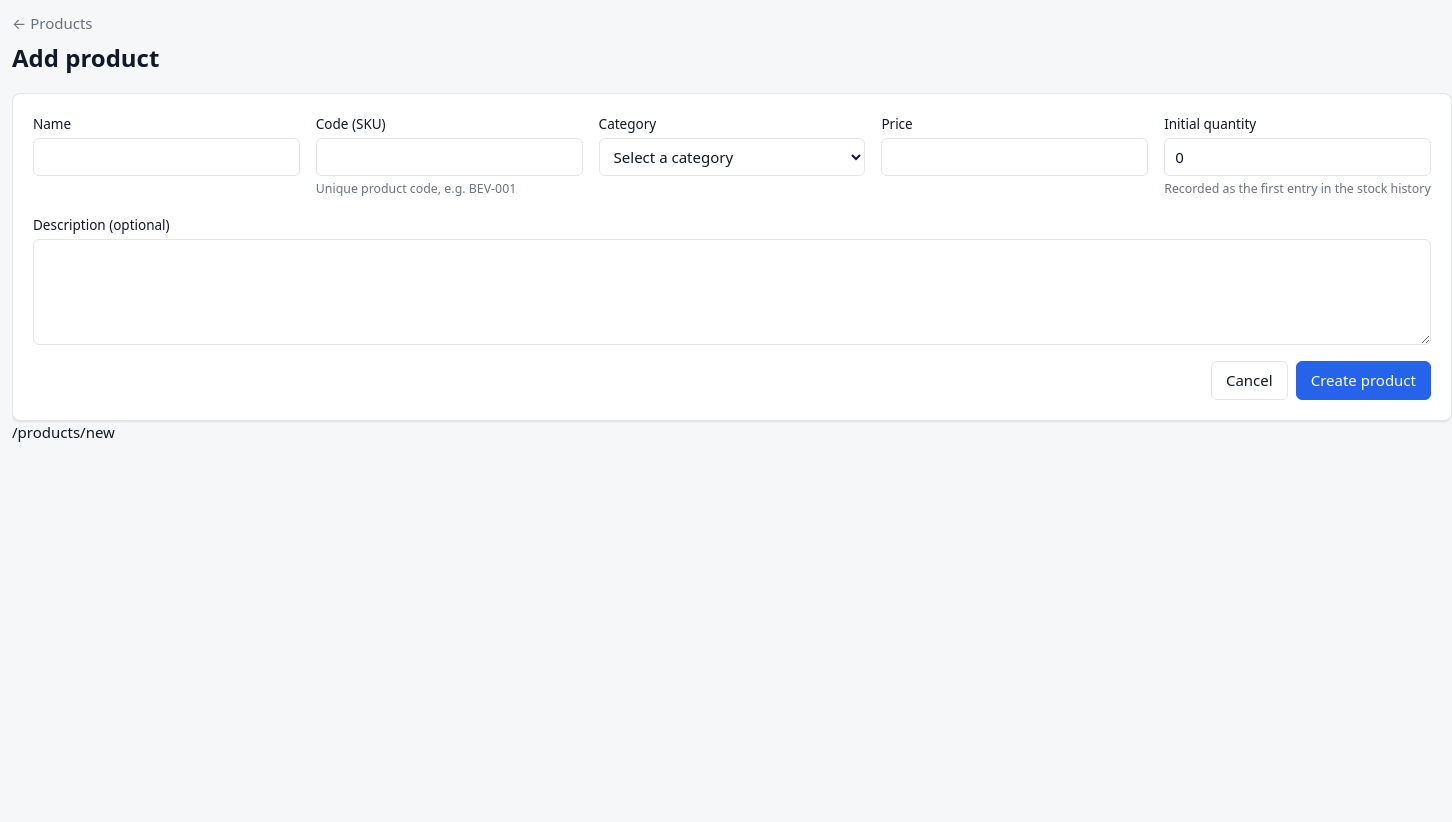
Test: ProductFormPage › creates a product and opens it
This screenshot has width=1452, height=822.
Expected: the heading "Add product" is shown, [12,42,159,72]
Type "Lemonade" into the field labelled "Name".
click(166, 157); type("Lemonade")  # box [33,138,300,176]
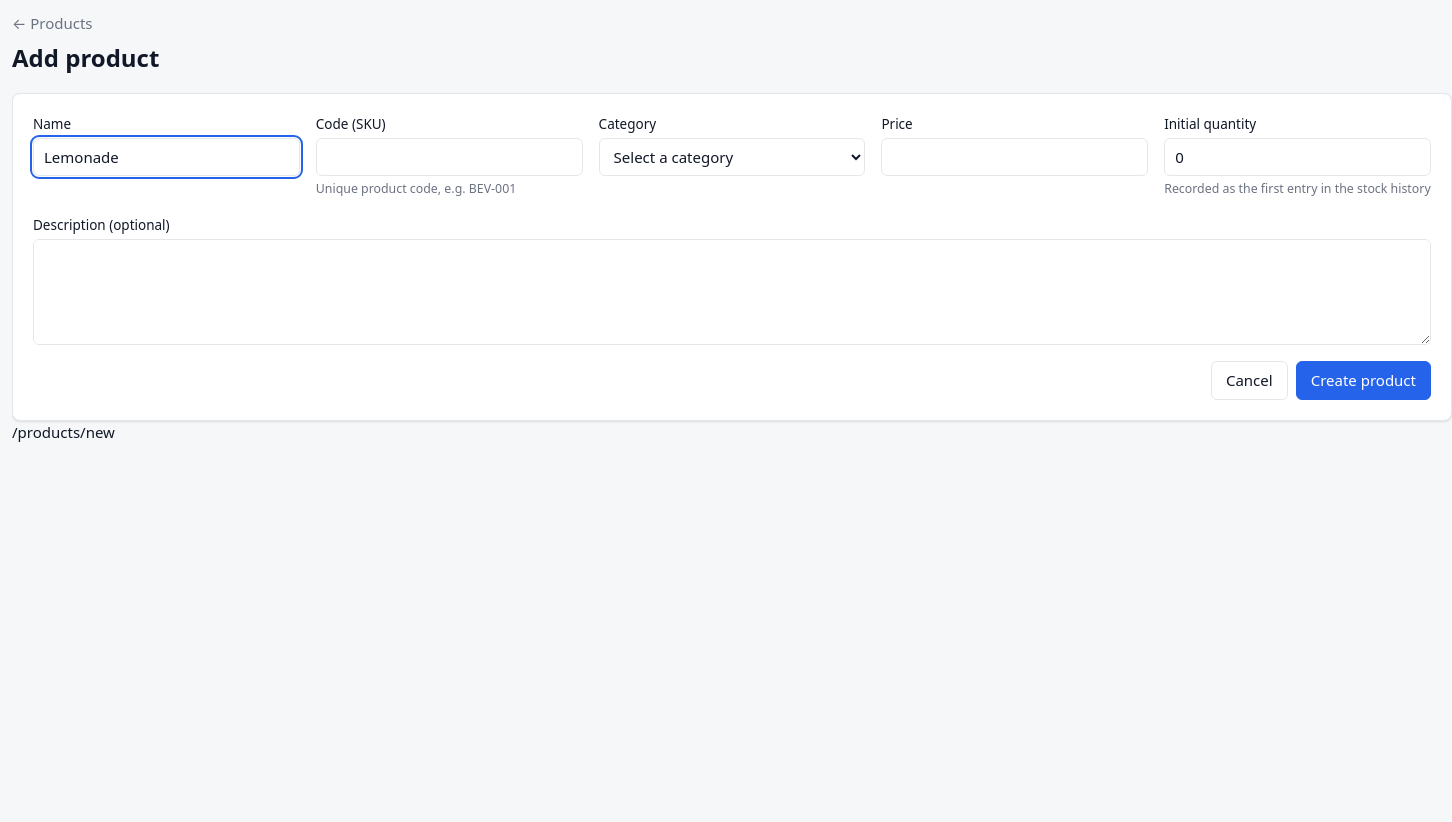
Type "BEV-100" into the field labelled "Code (SKU)".
click(449, 157); type("BEV-100")  # box [316,138,583,176]
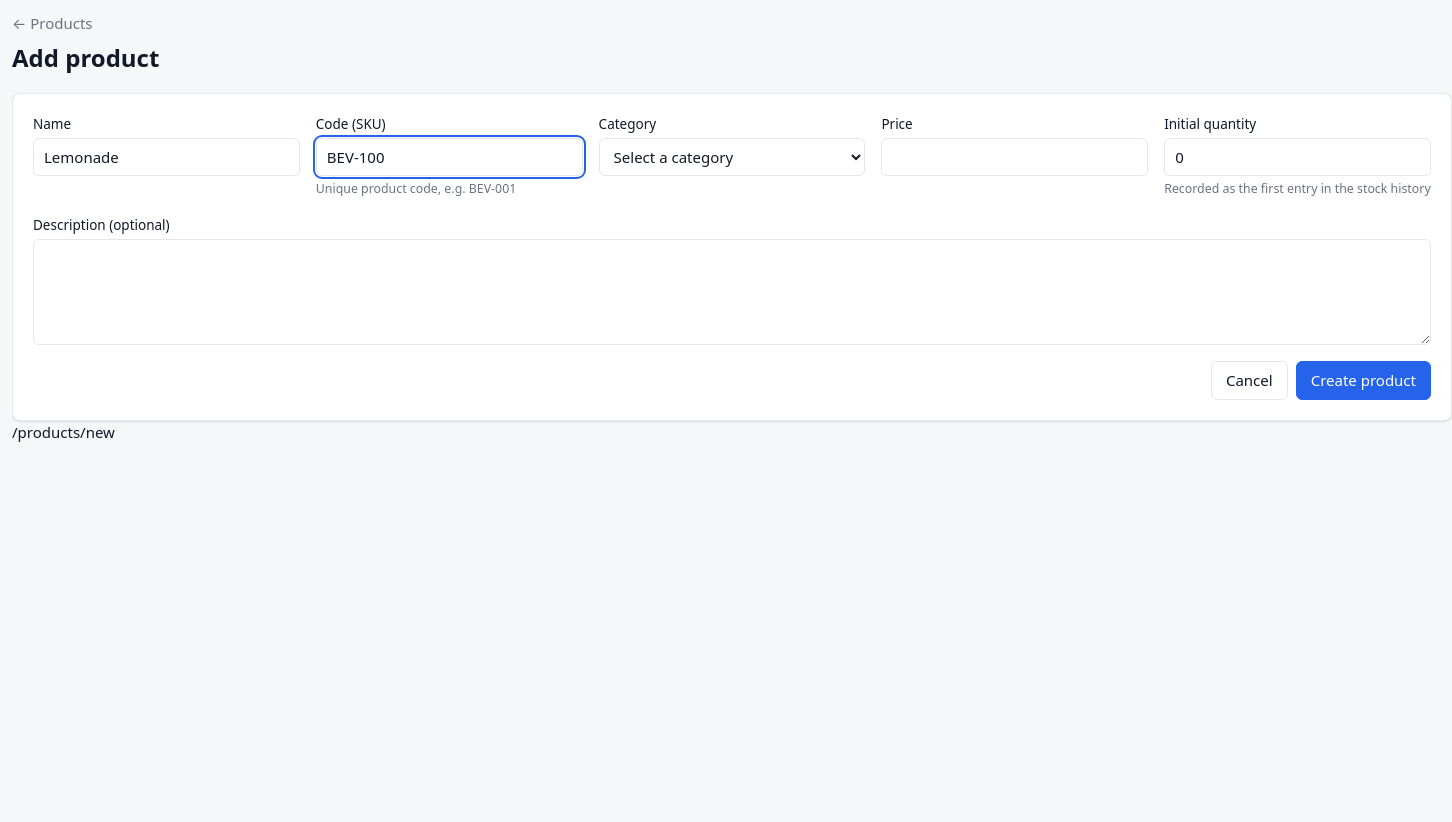
Select "Beverages" in the dropdown labelled "Category" at (732, 157), box [599,138,865,176]
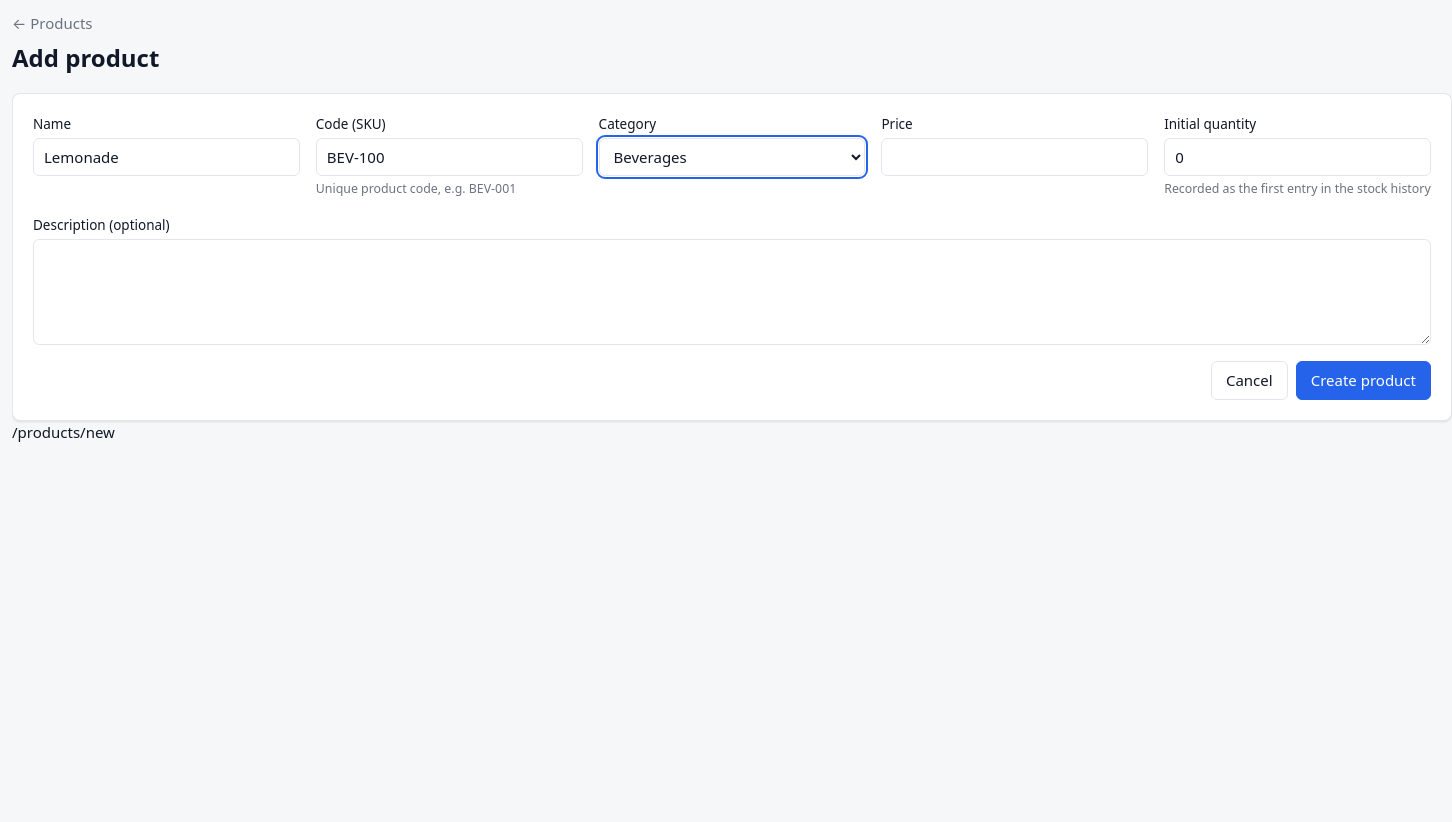
Type "1.5" into the number field labelled "Price".
click(1015, 157); type("1.5")  # box [881,138,1148,176]
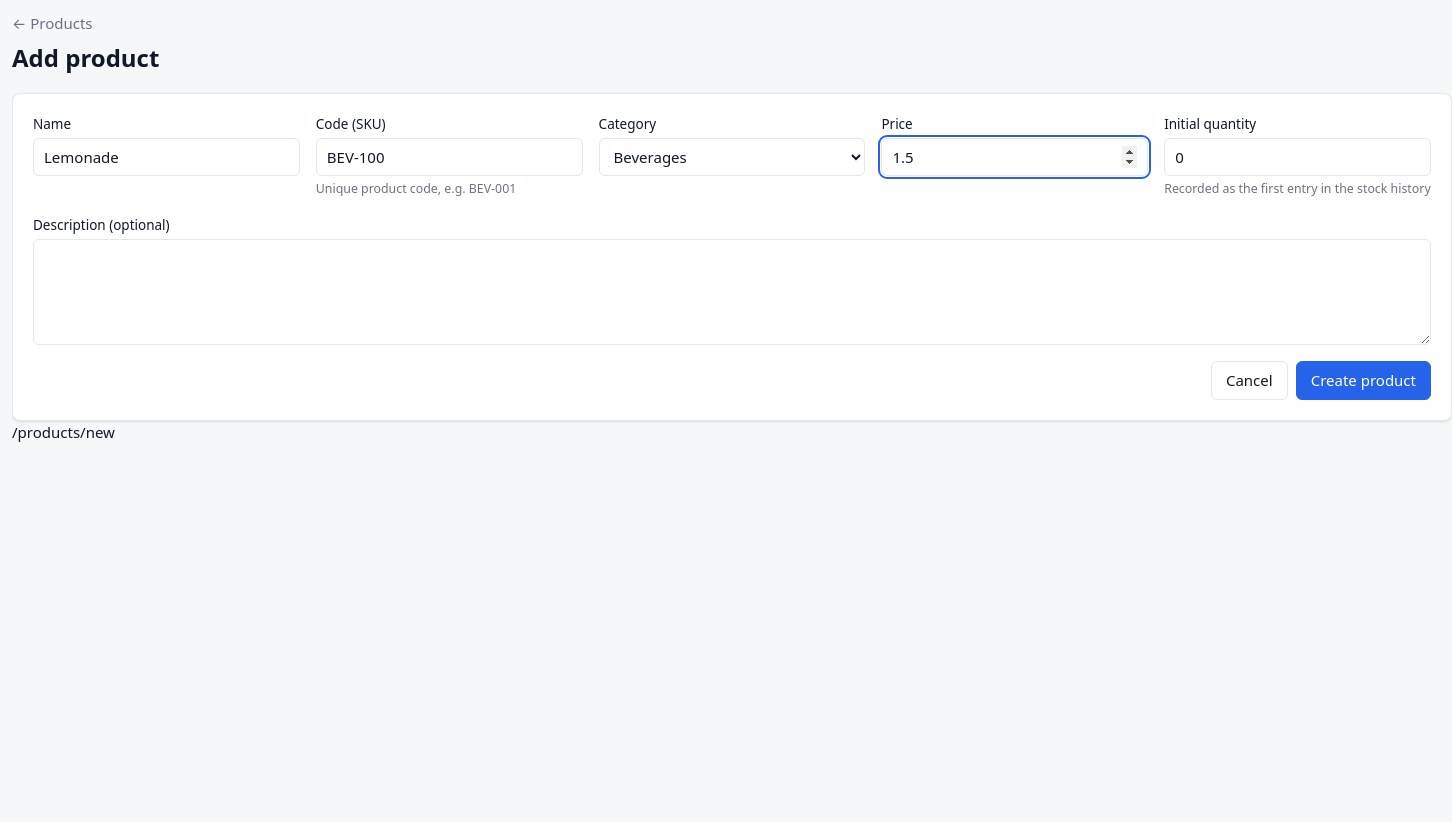
Click the button "Create product".
click(1363, 380)  # box [1296,361,1431,400]
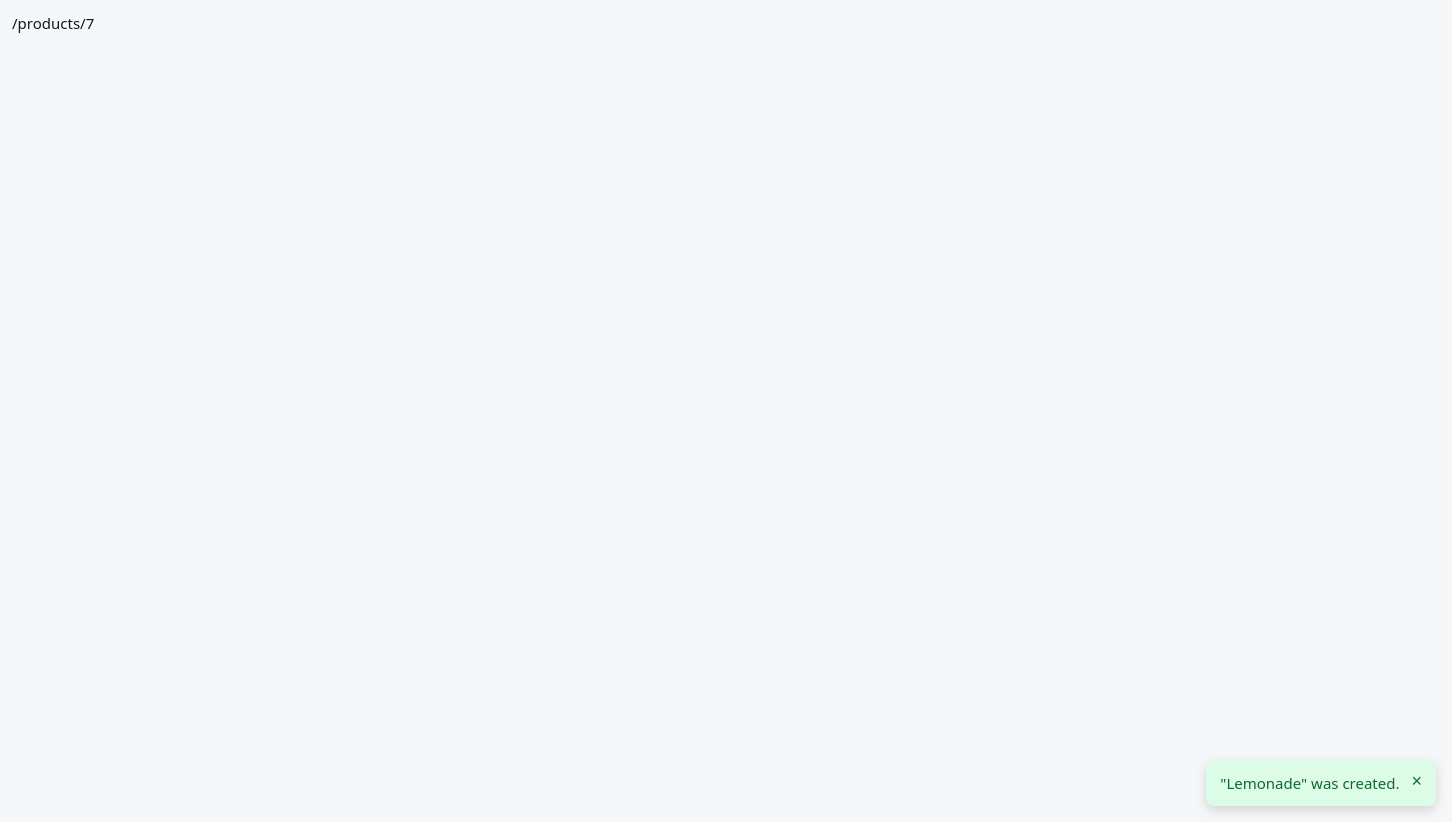
Now the message shows "\"Lemonade\" was created.", box [1220,772,1400,792]
